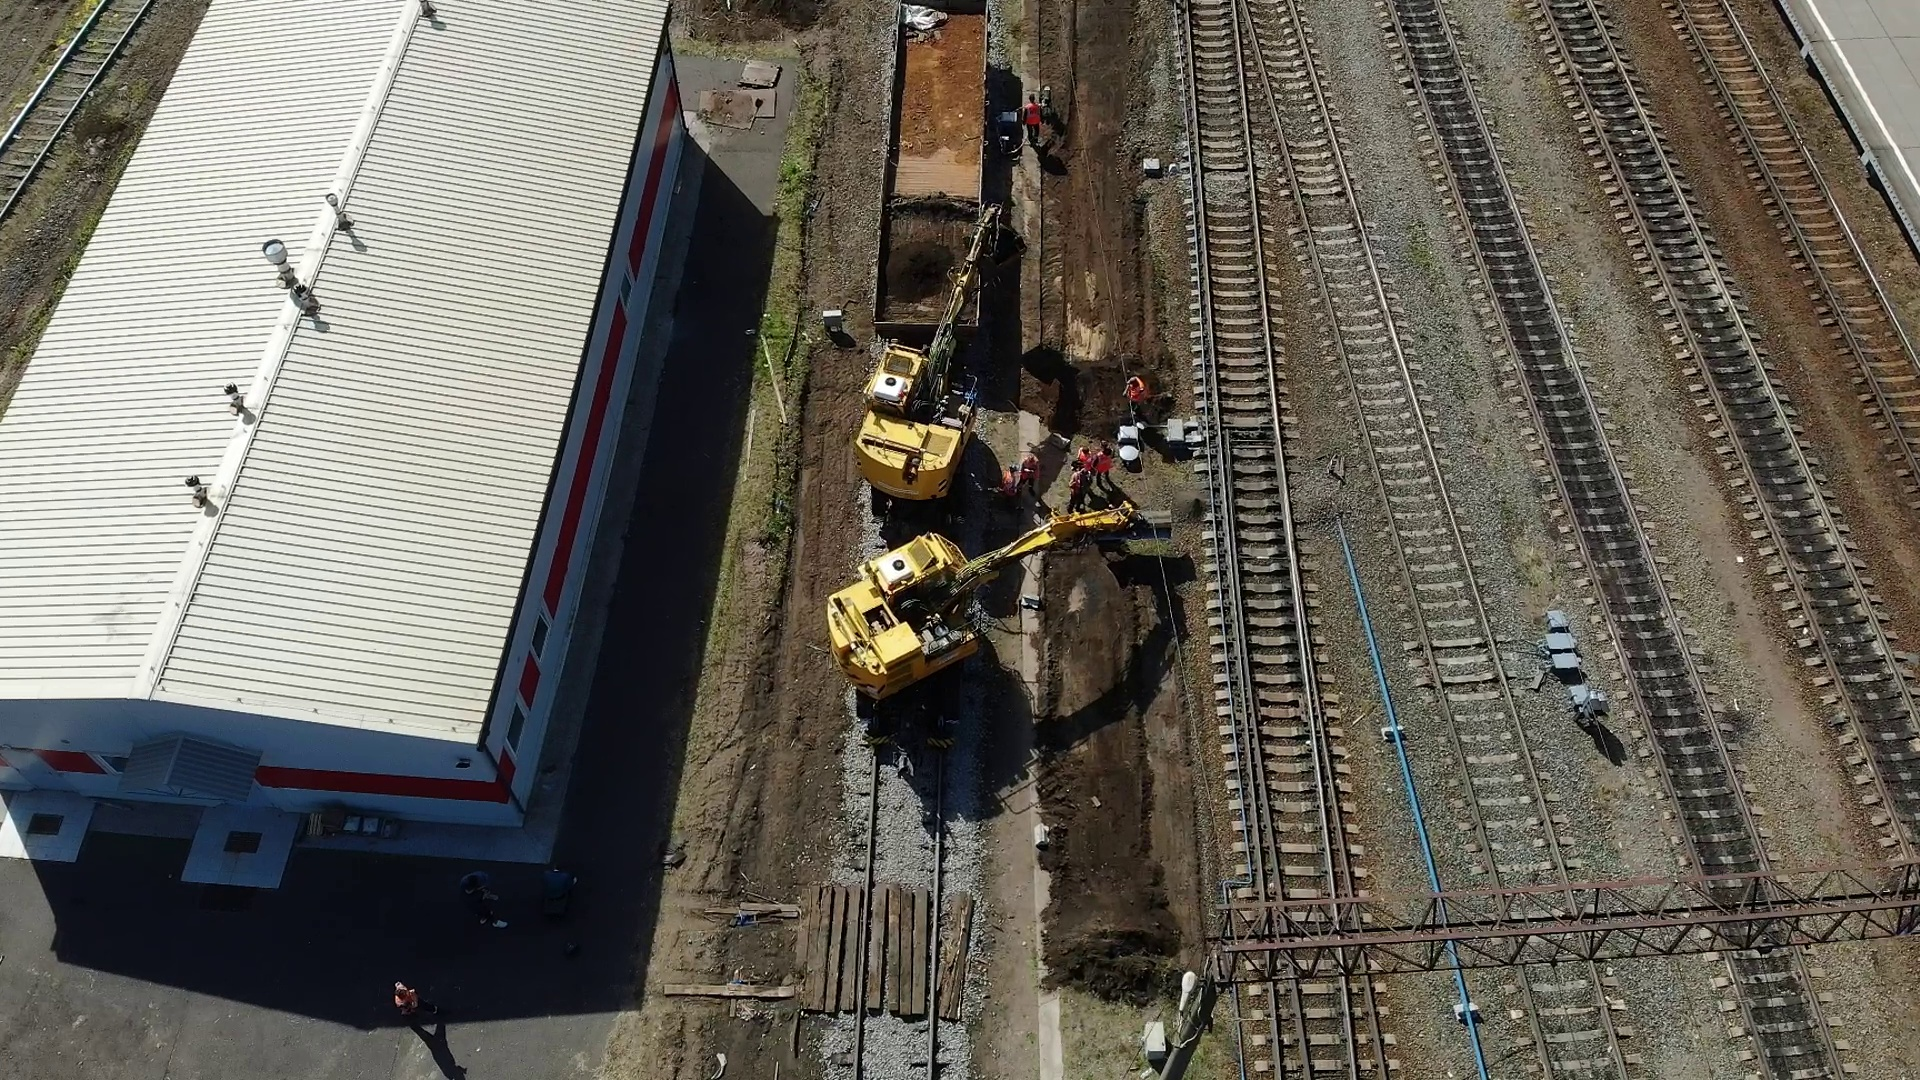kjtv: (827, 527, 1058, 742), (861, 266, 971, 508)
